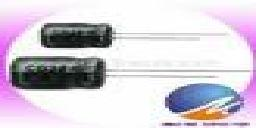Electrolytic-Capacitor: (5, 54, 253, 91), (36, 18, 232, 53)
